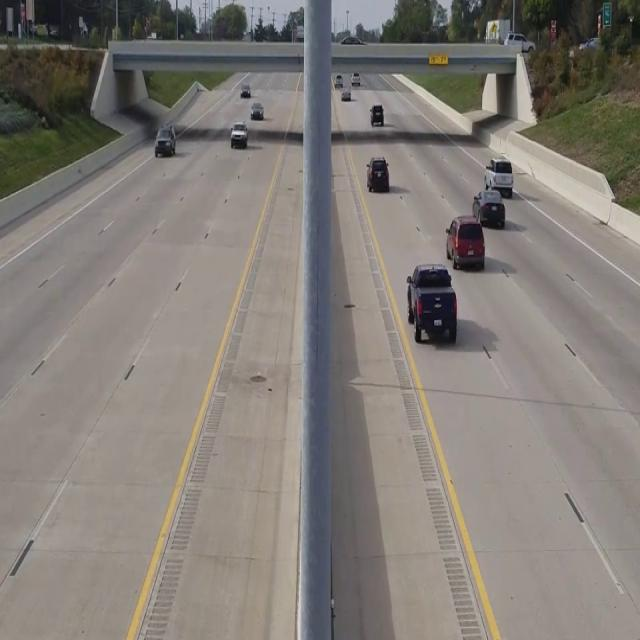car: (406, 263, 457, 343), (445, 215, 485, 270), (366, 155, 389, 192), (154, 124, 175, 156), (503, 32, 535, 53), (230, 121, 247, 148), (370, 104, 383, 126), (240, 83, 251, 97)
